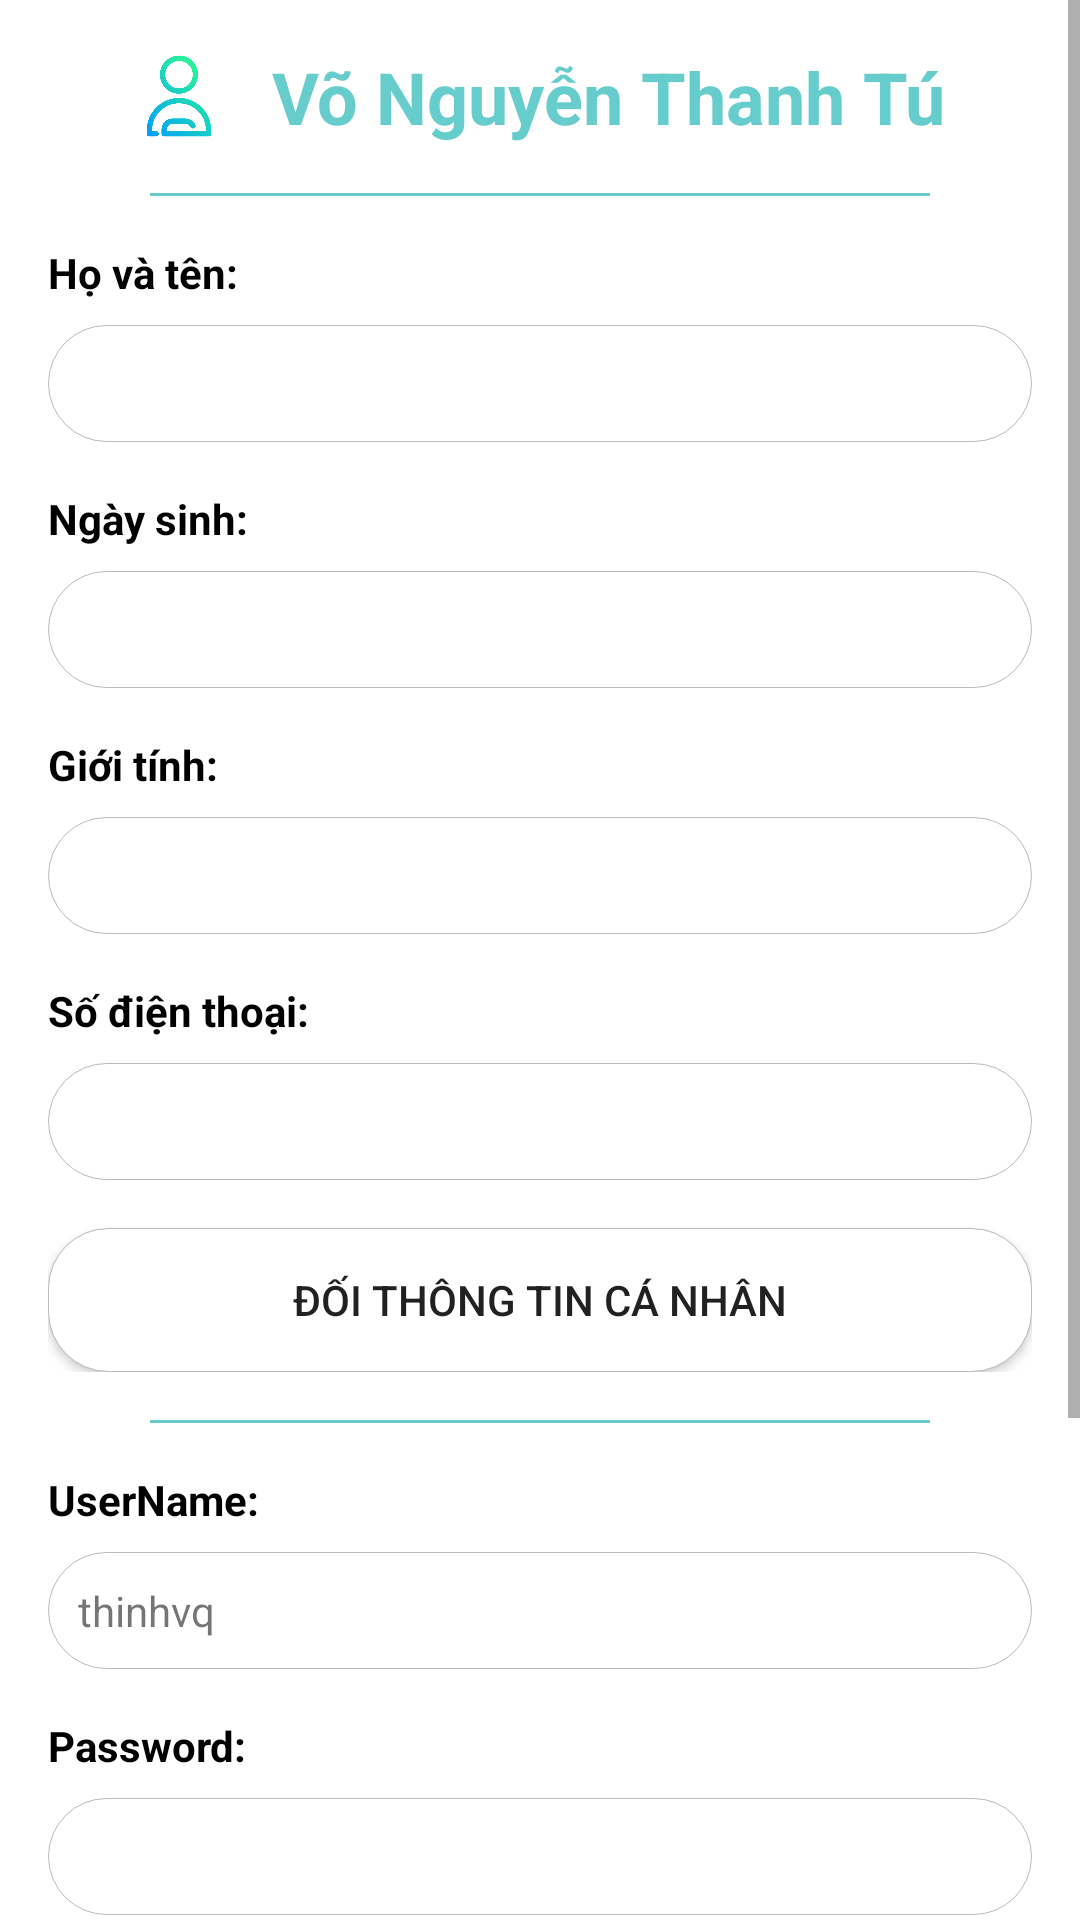

Named icons in this screenshot (1080w x 1920h) and their bounding boxes, BBox(x1, y1, x2, y2):
profile: BBox(147, 55, 211, 137)
